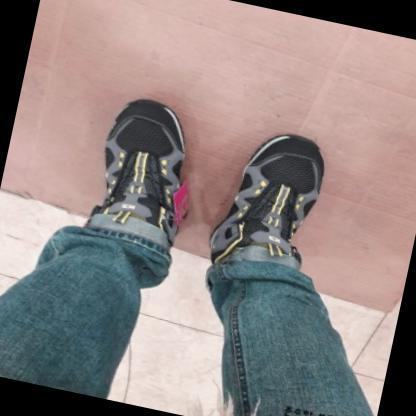safety-shoe: (206, 112, 352, 292), (75, 89, 215, 253)
